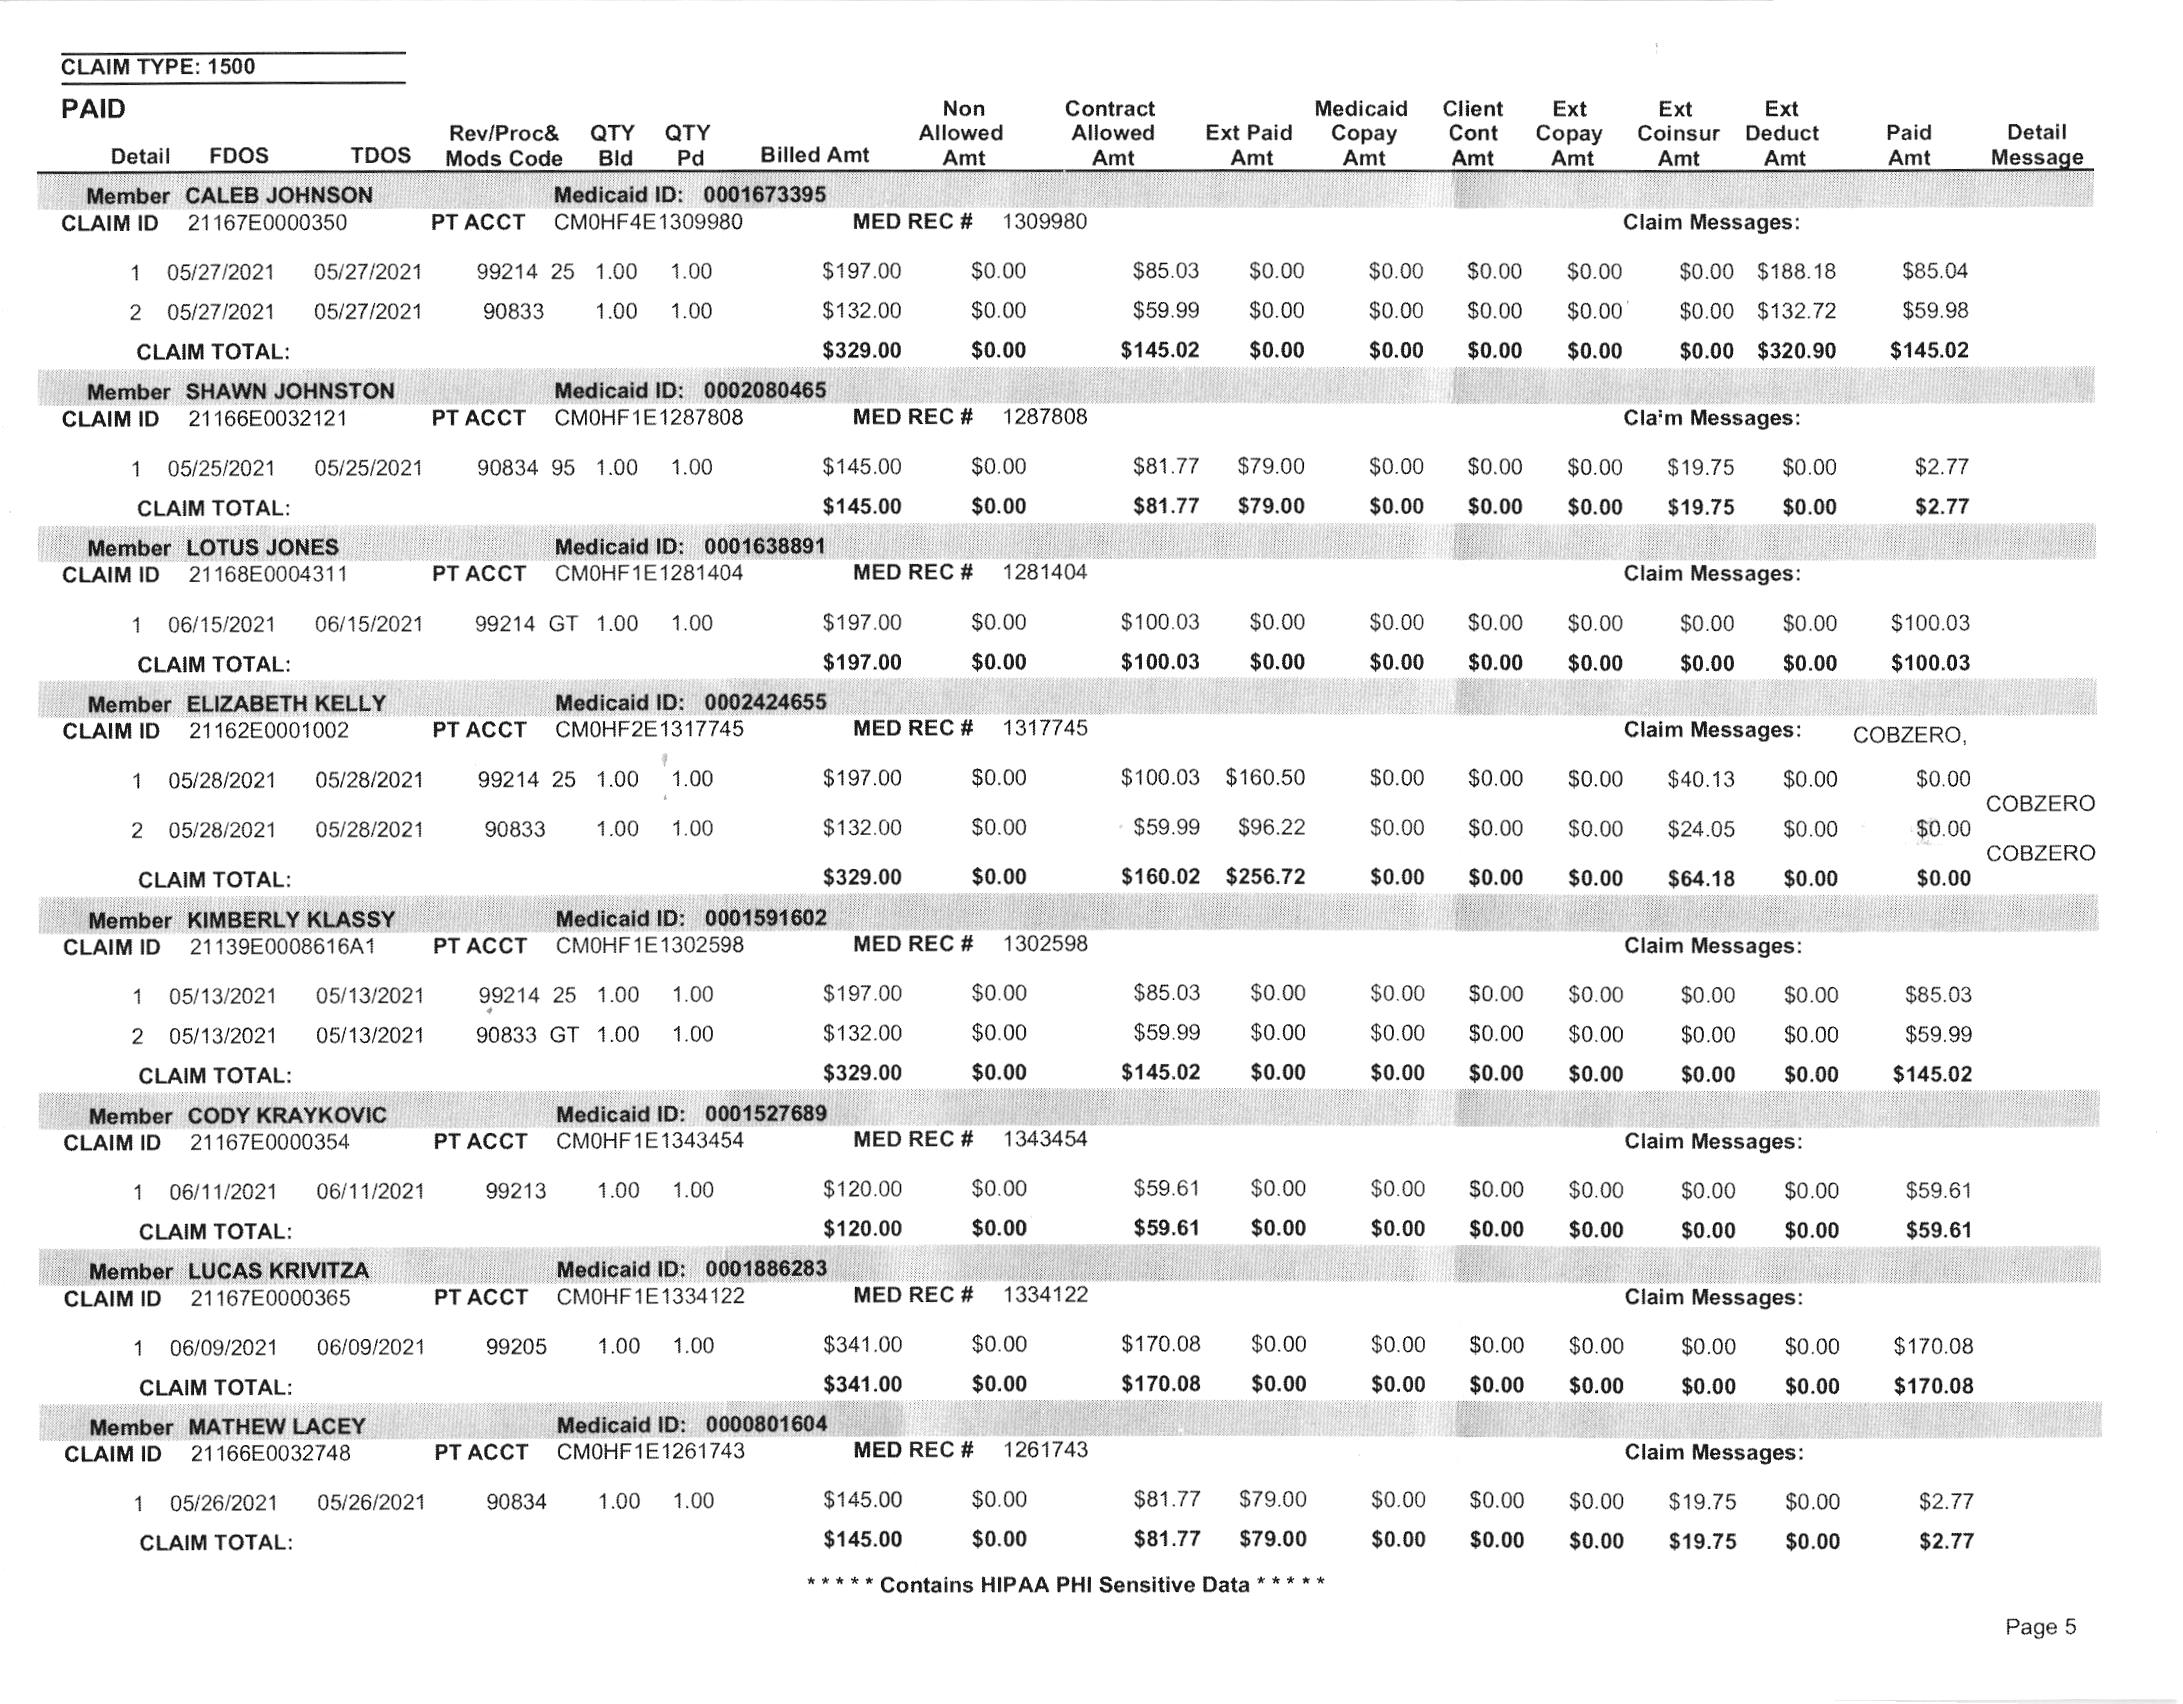table: (25, 80, 2135, 1564)
